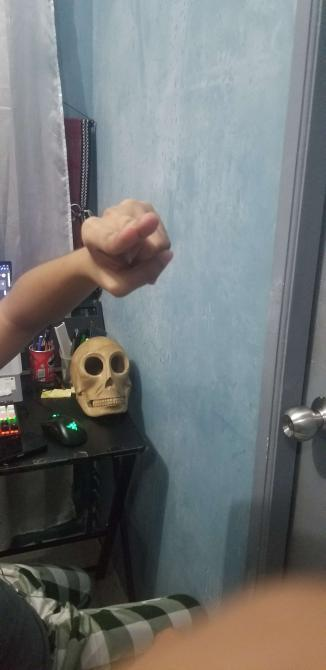n: (80, 195, 176, 296)
